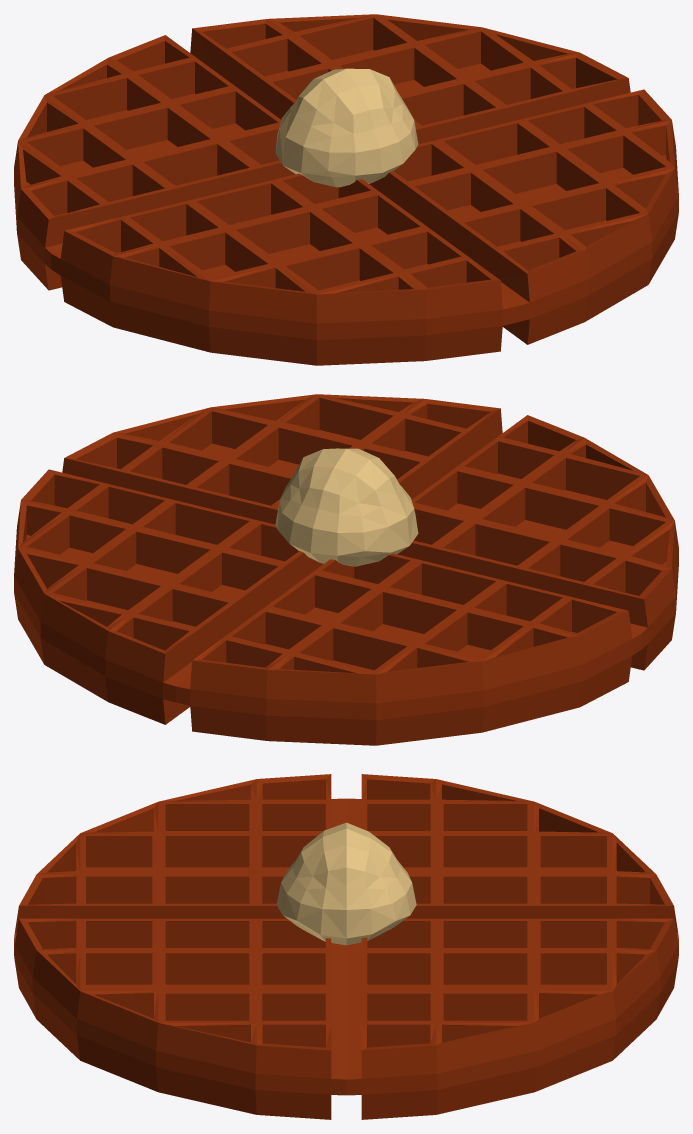
Rendered from small-waffle.dae.
3 renders of one model, top to bottom at view 1: azimuth 30°, elevation 25°; view 2: azimuth 150°, elevation 25°; view 3: azimuth 270°, elevation 25°, orthographic. The views are drawn at different scales.
Parts seen in each view (by area): view 1: waffle; view 2: waffle; view 3: waffle.
Boxes of the visible parts, x1=… form: waffle: x1=14, y1=14, x2=678, y2=365; waffle: x1=14, y1=394, x2=678, y2=745; waffle: x1=14, y1=774, x2=678, y2=1119.
Size of the model in its own units: 0.0942 by 0.0239 by 0.0942.
